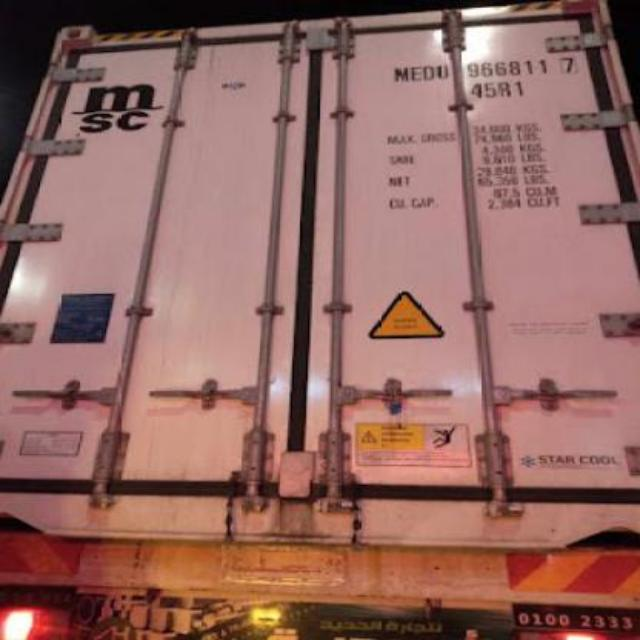1: (522, 52, 534, 78), (536, 54, 550, 76)
6: (478, 56, 494, 78), (494, 52, 506, 80)
7: (558, 52, 576, 78)
8: (506, 54, 522, 78)
9: (464, 56, 478, 80)
D: (422, 62, 434, 84)
E: (410, 62, 422, 84)
M: (392, 62, 410, 84)
U: (434, 58, 450, 86)
